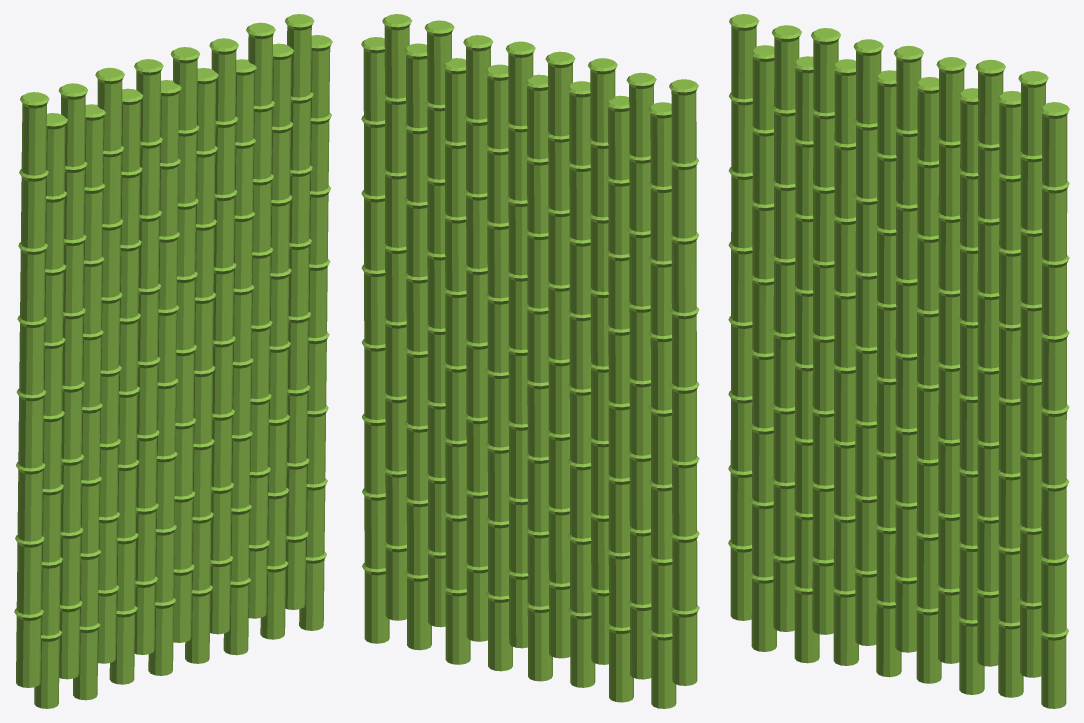
File: Bamboo-Wall.glb
3 views of the same model, side by side, from view 1: azimuth 30°, elevation 25°; view 2: azimuth 150°, elevation 25°; view 3: azimuth 330°, elevation 25° (orthographic). The views are drawn at different scales.
Parts seen in each view (by area): view 1: Node; view 2: Node; view 3: Node.
Boxes of the visible parts, x1=… form: Node: x1=14, y1=14, x2=332, y2=708; Node: x1=361, y1=14, x2=699, y2=708; Node: x1=728, y1=14, x2=1069, y2=708.
Bounding box in the file's own units: 1.66 × 3.06 × 0.2479.
